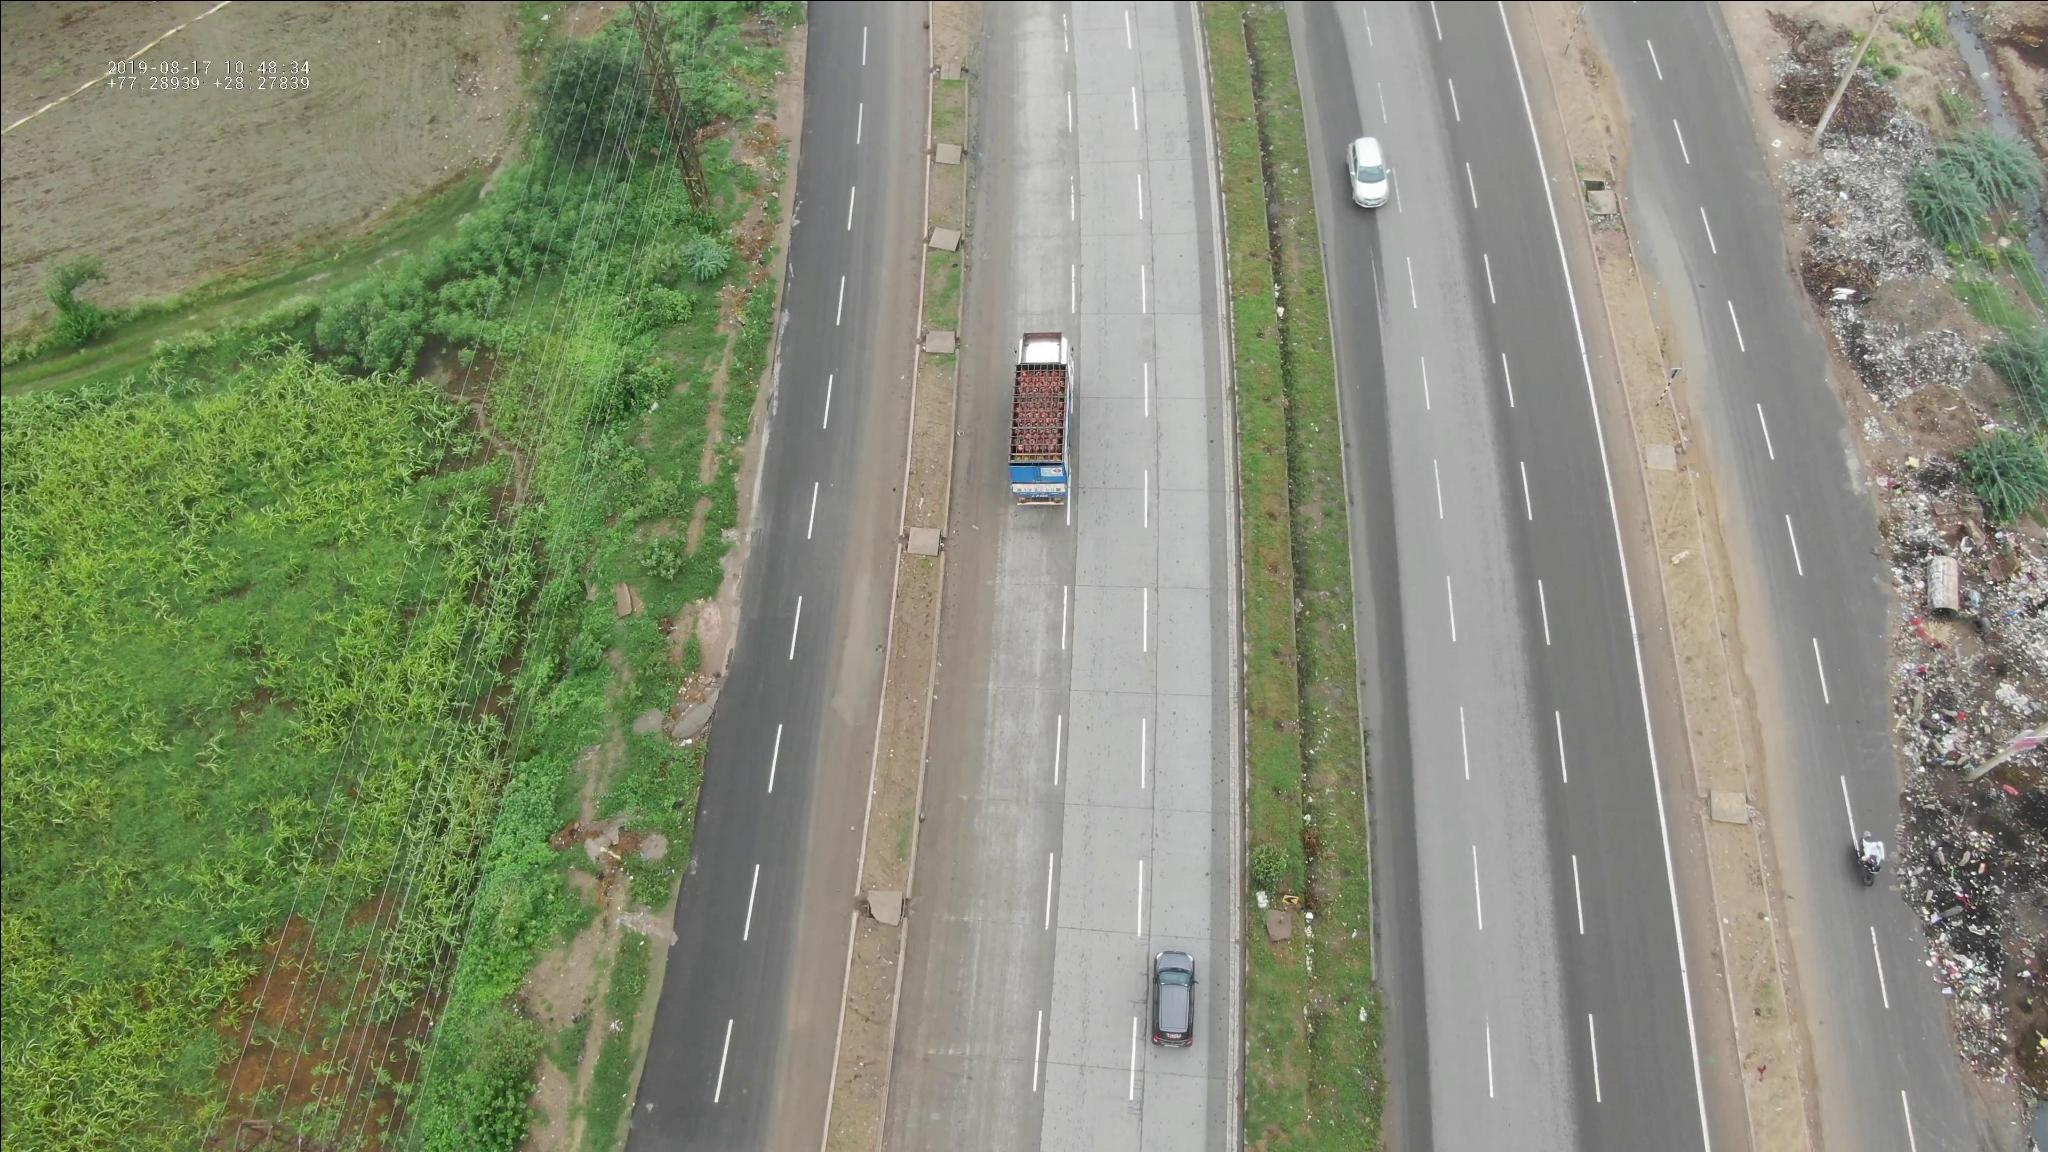Road_side_garbage: (1892, 460, 2048, 1072), (1798, 143, 1943, 297), (1827, 316, 1975, 399)
